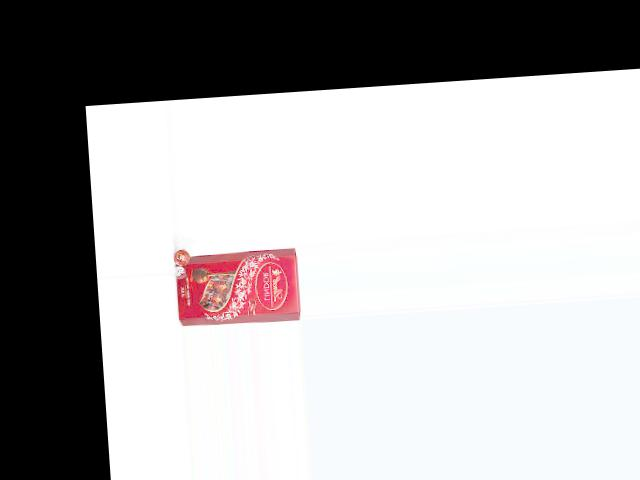chocolate: (174, 240, 300, 326)
